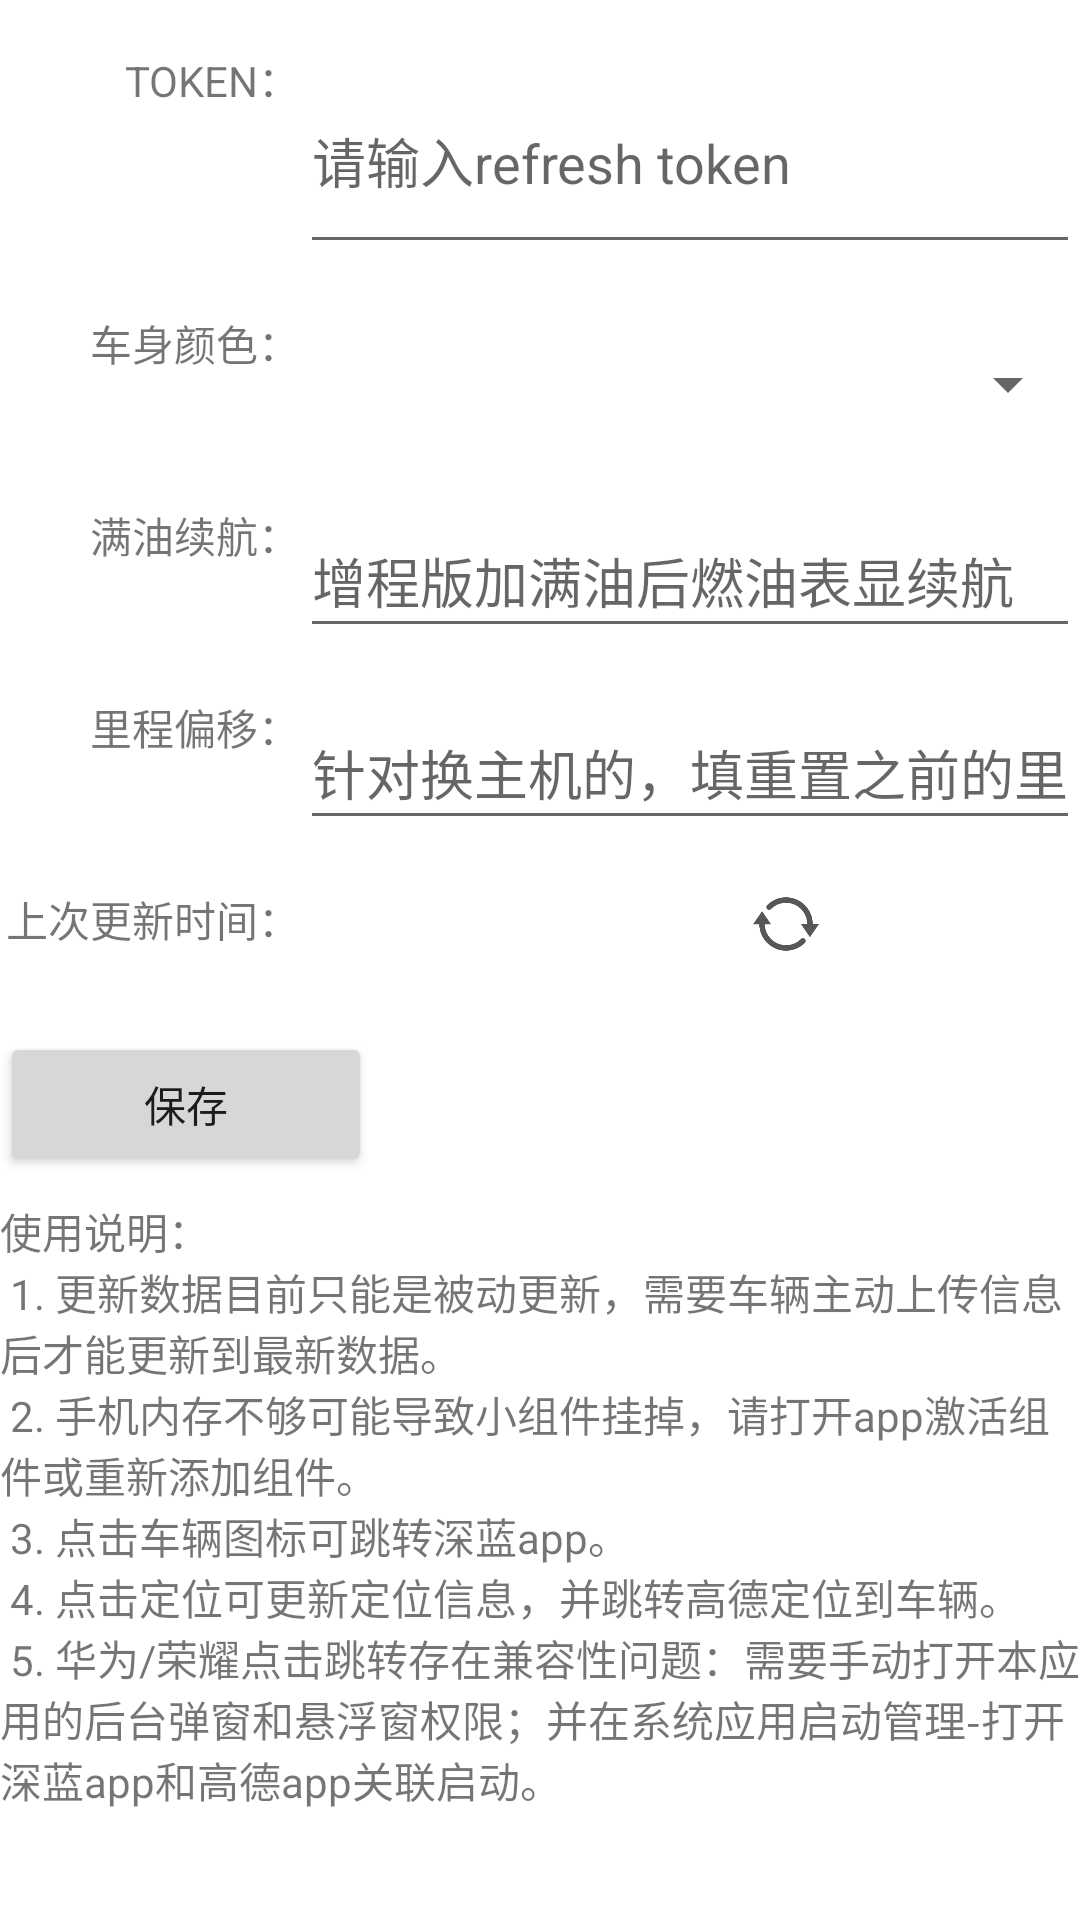

Locate icon controls on the screen. Image size 1080w x 1920h, boxes as (x1, y1, x2, y2).
refresh: (753, 897, 819, 951)
